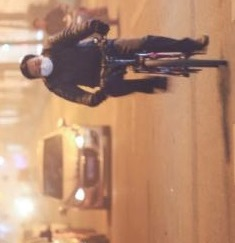person: (17, 18, 214, 100), (28, 8, 66, 33)
